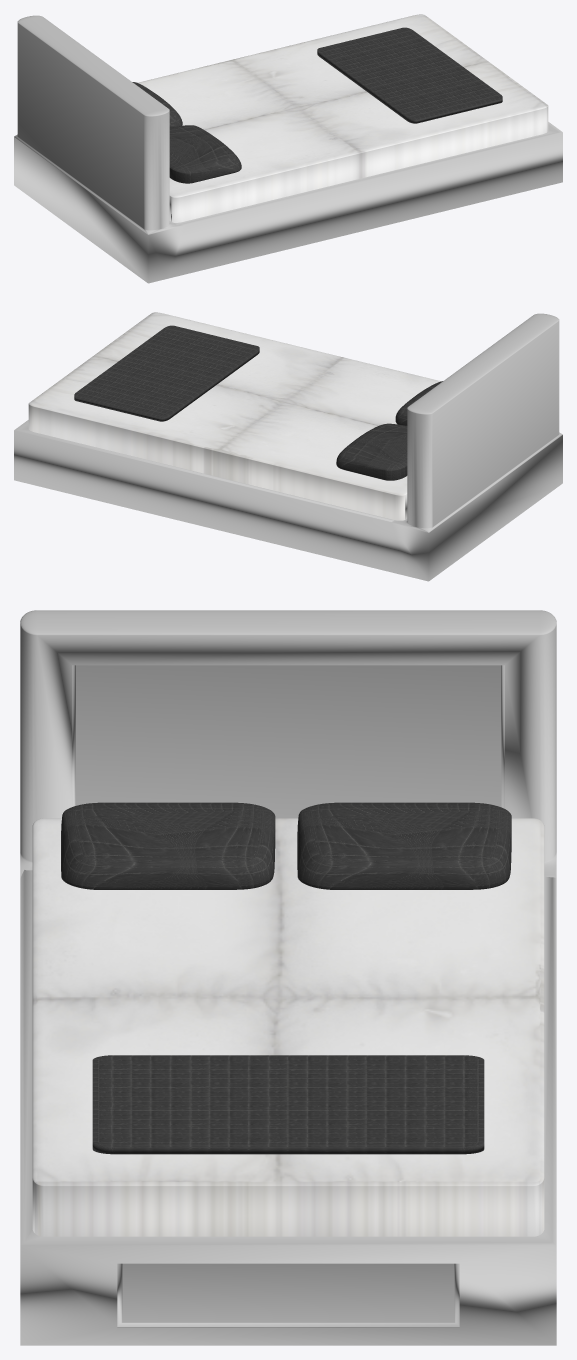
Rendered from Yatak2.fbx.
3 views of the same model, one above another, from view 1: azimuth 30°, elevation 25°; view 2: azimuth 150°, elevation 25°; view 3: azimuth 270°, elevation 25° (orthographic). The views are drawn at different scales.
Visible parts, largest first — view 1: Cube, Cube.003, Cube.001, Cube.002; view 2: Cube, Cube.003, Cube.002, Cube.001; view 3: Cube, Cube.003, Cube.002, Cube.001.
Part boxes in pixels (left/top/right/bottom): Cube: left=14, top=14, right=562, bottom=283; Cube.003: left=317, top=27, right=502, bottom=123; Cube.001: left=169, top=125, right=241, bottom=183; Cube.002: left=132, top=82, right=182, bottom=127; Cube: left=14, top=312, right=562, bottom=581; Cube.003: left=74, top=325, right=259, bottom=421; Cube.002: left=336, top=423, right=407, bottom=480; Cube.001: left=395, top=381, right=442, bottom=425; Cube: left=20, top=610, right=556, bottom=1345; Cube.003: left=92, top=1055, right=484, bottom=1154; Cube.002: left=297, top=802, right=511, bottom=889; Cube.001: left=61, top=802, right=275, bottom=889.
Size of the model in its own units: 995 by 382 by 558.
